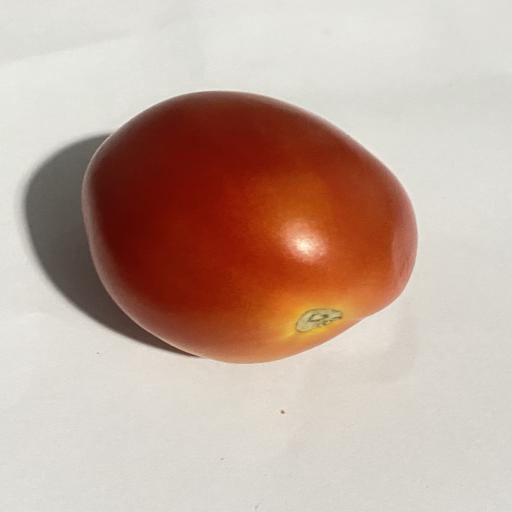ripe: (82, 91, 417, 362)
